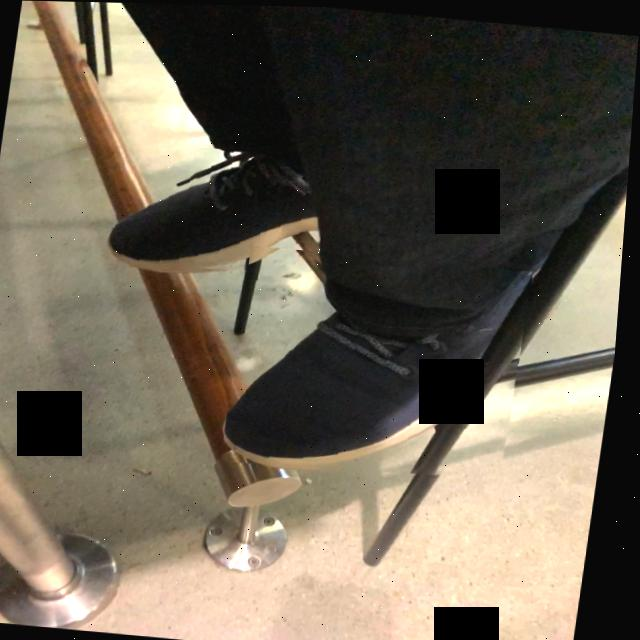shoe: (232, 253, 537, 464), (115, 153, 327, 266)
